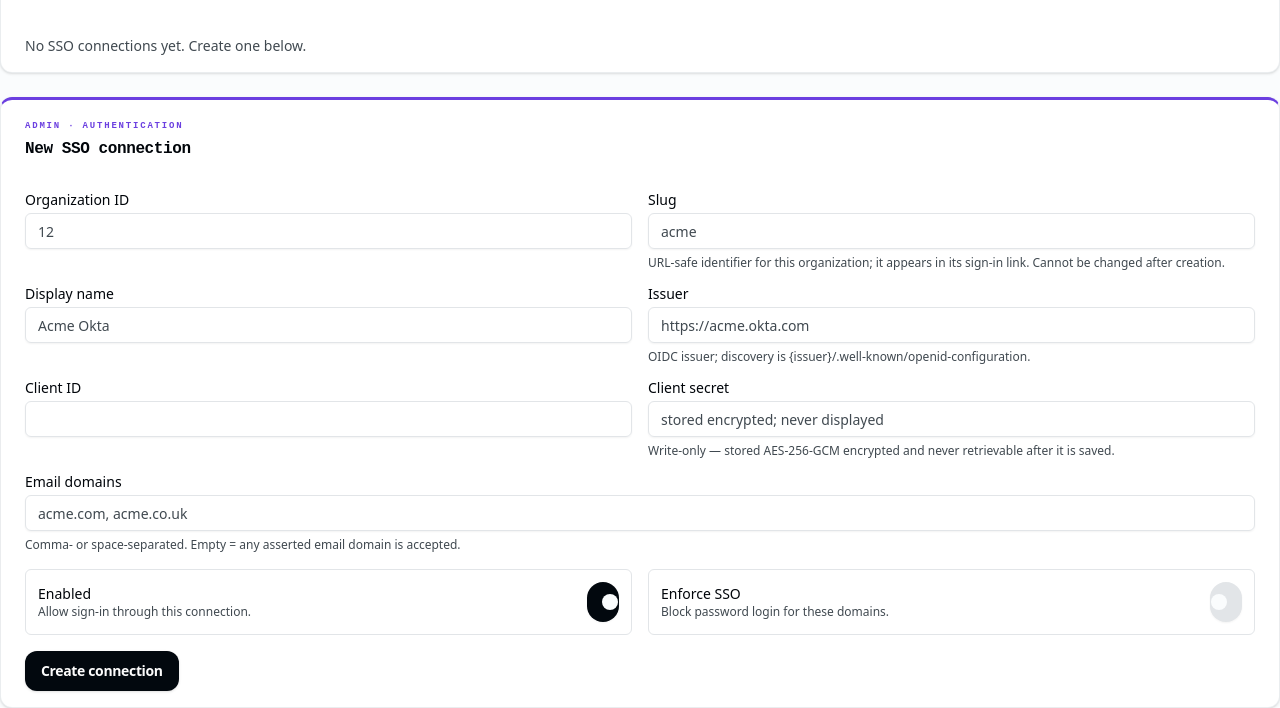
Scenario: SSOConnectionsWorkspace › warns that password login will be blocked when enforce-SSO is toggled on
(page scrolled)
Expected: the text "No SSO connections yet. Create one below." is shown, [25,36,306,54]
Type "acme.com" into the field labelled "Email domains" at point(640, 513), box [25,495,1255,531]
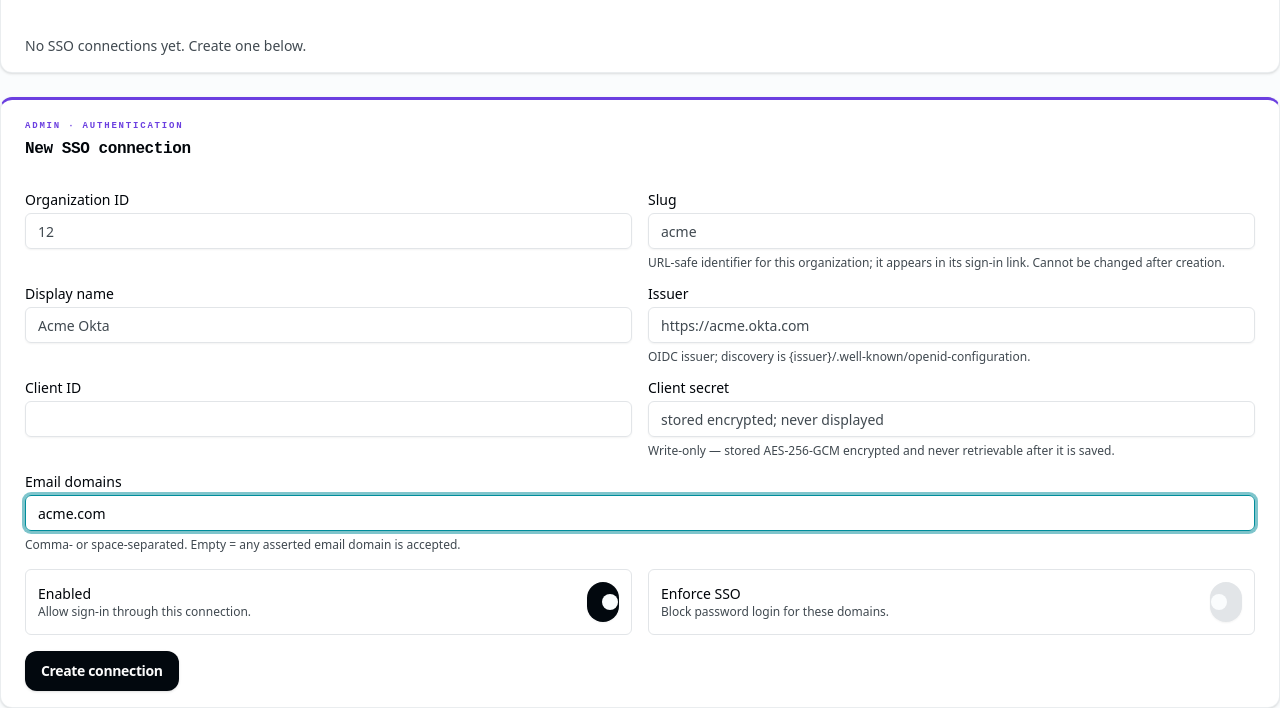
Click the switch named "Enforce SSO" in the row of "Block password login for these domains." at point(1226, 602), box [1210,582,1242,622]
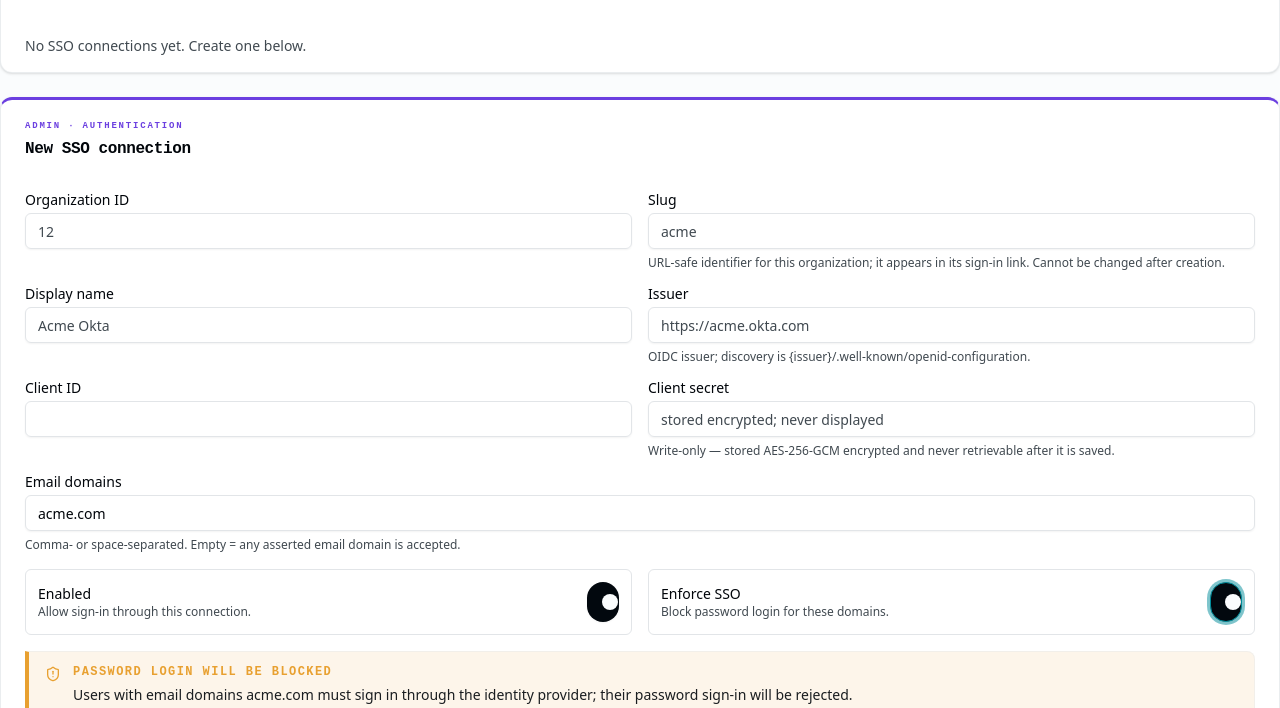
Expected: the text "Password login will be blocked" is shown, [73,665,332,679]
Expected: the text "acme.com must sign in through the identity provider" is shown, [73,685,852,704]
